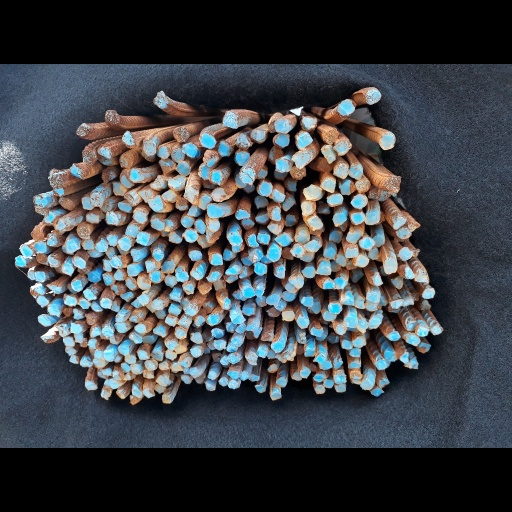dipstick: (335, 98, 357, 115), (291, 150, 310, 169), (363, 87, 382, 105), (222, 109, 239, 129), (118, 168, 135, 188), (368, 187, 392, 201), (158, 157, 176, 175), (378, 132, 395, 151), (384, 175, 401, 194), (204, 213, 221, 232), (295, 131, 313, 148), (204, 227, 222, 244), (167, 175, 186, 191), (303, 184, 322, 200), (239, 167, 255, 186), (65, 233, 81, 252), (92, 349, 108, 368), (321, 144, 336, 164), (300, 114, 317, 131), (124, 189, 141, 206), (71, 274, 88, 291), (320, 128, 338, 144), (172, 127, 190, 143), (48, 172, 66, 188), (203, 149, 219, 167), (315, 157, 333, 173), (210, 186, 228, 202), (256, 179, 272, 197), (153, 90, 168, 109), (334, 140, 353, 155), (272, 133, 291, 148), (58, 195, 77, 210), (319, 178, 338, 193), (274, 117, 290, 134), (101, 166, 117, 183), (275, 157, 292, 173), (306, 215, 323, 231), (250, 129, 268, 144), (184, 187, 199, 205), (332, 162, 347, 180), (358, 236, 376, 251), (138, 188, 156, 203), (76, 222, 91, 240), (200, 133, 216, 149), (355, 178, 371, 194), (300, 200, 316, 216), (397, 246, 413, 262), (53, 217, 69, 233), (42, 210, 58, 226), (236, 133, 253, 148), (181, 143, 198, 158), (104, 109, 119, 126), (89, 191, 104, 208), (268, 147, 283, 164), (293, 229, 310, 244), (413, 268, 430, 283), (148, 194, 163, 211), (181, 228, 198, 243), (144, 259, 161, 274), (246, 323, 263, 338), (218, 139, 232, 157), (110, 181, 128, 195), (349, 163, 363, 181), (350, 195, 368, 209), (274, 232, 292, 246), (137, 273, 151, 291), (29, 282, 47, 296), (99, 199, 118, 212), (119, 152, 134, 168), (82, 149, 98, 164), (69, 163, 85, 178), (150, 174, 165, 190), (390, 214, 406, 229), (346, 229, 362, 244), (399, 264, 415, 279), (267, 219, 283, 234), (265, 247, 281, 262), (124, 223, 140, 238), (29, 226, 45, 241), (116, 236, 132, 251), (247, 247, 263, 262), (59, 261, 74, 277), (170, 146, 184, 163), (122, 130, 136, 147), (367, 272, 384, 286), (304, 239, 321, 253), (241, 216, 258, 230), (206, 204, 223, 218), (197, 234, 214, 248), (114, 308, 131, 322), (176, 161, 191, 176), (32, 194, 47, 209), (365, 210, 380, 225), (271, 188, 286, 203), (267, 206, 282, 221), (382, 258, 397, 273), (45, 230, 60, 245), (76, 122, 90, 138), (235, 151, 251, 165), (290, 165, 306, 179), (327, 230, 343, 244), (390, 274, 404, 290), (254, 195, 270, 209), (227, 231, 243, 245), (133, 209, 149, 223), (160, 260, 176, 274), (175, 266, 189, 282), (47, 253, 63, 267), (238, 265, 254, 279), (327, 193, 344, 206), (288, 275, 305, 288), (104, 378, 126, 388), (154, 374, 172, 386), (371, 234, 386, 248), (283, 178, 298, 192), (282, 197, 296, 212), (254, 210, 269, 224), (245, 233, 259, 248), (198, 195, 212, 210), (150, 217, 165, 231), (135, 231, 150, 245), (252, 261, 267, 275), (19, 244, 34, 258), (245, 352, 260, 366), (169, 287, 183, 302), (200, 299, 215, 313), (47, 303, 62, 317), (156, 144, 169, 160), (209, 169, 222, 185), (290, 245, 306, 258), (162, 189, 178, 202), (84, 211, 100, 224), (109, 254, 125, 267), (125, 275, 138, 291), (403, 356, 419, 369), (177, 355, 193, 368), (103, 345, 116, 361), (37, 313, 53, 326), (319, 278, 336, 290), (95, 368, 113, 379), (406, 218, 420, 232), (335, 254, 349, 268), (323, 246, 337, 260), (317, 261, 331, 275), (104, 246, 118, 260), (87, 269, 101, 283), (296, 315, 310, 329), (406, 333, 420, 347), (84, 312, 98, 326), (143, 141, 156, 156), (97, 144, 112, 157), (350, 212, 365, 225), (316, 201, 331, 214), (332, 212, 347, 225), (257, 230, 270, 245), (104, 211, 119, 224), (222, 248, 237, 261), (198, 281, 213, 294), (328, 301, 343, 314), (178, 314, 193, 327), (130, 383, 143, 398), (168, 303, 183, 316), (153, 324, 168, 337), (78, 355, 93, 368), (63, 293, 78, 306), (34, 294, 49, 307), (395, 226, 411, 238), (353, 255, 369, 267), (127, 264, 143, 276), (231, 289, 247, 301), (128, 331, 144, 343), (82, 288, 98, 300), (116, 201, 133, 212), (77, 262, 94, 273), (45, 283, 62, 294), (281, 246, 294, 260), (273, 265, 286, 279), (187, 204, 201, 217), (168, 230, 181, 244), (95, 238, 108, 252), (14, 255, 28, 268), (72, 255, 86, 268), (343, 315, 357, 328), (430, 323, 444, 336), (416, 323, 429, 337), (383, 348, 397, 361), (275, 374, 288, 388), (189, 331, 203, 344), (164, 314, 178, 327), (33, 269, 46, 283), (301, 266, 316, 278), (86, 248, 104, 258), (149, 271, 164, 283), (403, 294, 415, 309), (365, 291, 380, 303), (281, 310, 296, 322), (326, 332, 341, 344), (212, 339, 227, 351), (229, 334, 244, 346), (235, 209, 251, 220), (188, 250, 204, 261), (135, 349, 151, 360), (113, 321, 129, 332), (225, 264, 242, 274), (41, 333, 58, 343), (175, 197, 188, 210), (180, 215, 193, 228), (351, 270, 364, 283), (164, 274, 177, 287), (334, 371, 347, 384), (228, 351, 241, 364), (129, 168, 141, 182), (51, 185, 65, 197), (285, 213, 297, 227), (368, 247, 380, 261), (421, 287, 435, 299), (193, 219, 205, 233), (106, 233, 118, 247), (152, 247, 164, 261), (181, 282, 195, 294), (340, 293, 354, 305), (255, 295, 269, 307), (356, 319, 368, 333), (270, 341, 284, 353), (183, 304, 197, 316), (144, 358, 158, 370), (150, 298, 164, 310), (134, 322, 148, 334), (117, 343, 131, 355), (84, 380, 98, 392), (77, 297, 91, 309), (300, 252, 315, 263), (206, 271, 221, 282), (265, 306, 280, 317), (231, 313, 246, 324), (296, 330, 307, 345), (274, 353, 289, 364), (225, 342, 240, 353), (128, 394, 143, 405), (129, 312, 144, 323), (222, 273, 238, 283), (345, 246, 358, 258), (255, 166, 268, 178), (163, 219, 175, 232), (81, 238, 94, 250), (210, 253, 222, 266), (333, 277, 346, 289), (34, 241, 47, 253), (102, 273, 115, 285), (241, 286, 254, 298), (418, 342, 431, 354), (348, 347, 361, 359), (283, 348, 295, 361), (174, 327, 187, 339), (58, 323, 71, 335), (72, 307, 85, 319), (99, 298, 112, 310), (129, 247, 140, 261), (190, 269, 204, 280), (389, 298, 403, 309), (322, 310, 336, 321), (300, 296, 314, 307), (266, 294, 280, 305), (352, 336, 366, 347), (399, 351, 410, 365), (309, 326, 323, 337), (268, 389, 282, 400), (247, 372, 261, 383), (237, 370, 251, 381), (206, 314, 220, 325), (189, 346, 203, 357), (164, 340, 178, 351), (164, 350, 178, 361), (130, 363, 144, 374), (62, 336, 76, 347), (376, 359, 391, 369), (359, 379, 374, 389), (369, 386, 384, 396), (260, 332, 275, 342), (241, 255, 253, 267), (114, 268, 126, 280), (353, 297, 365, 309), (349, 371, 365, 380), (266, 348, 278, 360), (193, 315, 205, 327), (201, 330, 213, 342), (158, 359, 170, 371), (137, 294, 149, 306), (102, 325, 114, 337), (70, 322, 82, 334), (109, 300, 121, 312), (310, 301, 321, 314), (406, 320, 417, 333), (335, 322, 346, 335), (332, 356, 343, 369), (313, 384, 326, 395), (318, 315, 331, 326), (220, 298, 231, 311), (228, 378, 241, 389), (211, 327, 224, 338), (225, 322, 238, 333), (234, 322, 247, 333), (151, 350, 164, 361), (142, 368, 155, 379), (142, 334, 155, 345), (89, 300, 102, 311), (387, 330, 401, 340), (340, 339, 354, 349), (226, 370, 240, 380), (170, 361, 184, 371), (153, 383, 167, 393), (154, 309, 168, 319), (110, 333, 124, 343), (317, 361, 332, 370), (241, 306, 256, 315), (283, 290, 295, 301), (368, 317, 379, 329), (377, 378, 389, 389), (420, 300, 432, 311), (204, 380, 216, 391), (219, 354, 231, 365), (188, 367, 200, 378), (143, 388, 155, 399), (115, 388, 127, 399), (89, 325, 100, 337), (26, 268, 37, 280), (213, 280, 226, 290), (334, 383, 347, 393), (231, 244, 245, 253), (379, 294, 388, 308), (180, 374, 191, 385), (34, 207, 49, 215), (261, 255, 276, 263), (252, 286, 264, 296), (313, 353, 325, 363), (206, 340, 218, 350), (211, 352, 223, 362), (87, 338, 99, 348), (68, 354, 80, 364), (313, 373, 326, 382), (64, 346, 78, 354), (323, 379, 334, 389), (300, 366, 310, 377), (292, 370, 302, 381), (257, 347, 267, 358), (100, 389, 110, 400), (411, 290, 420, 302), (124, 355, 136, 364), (112, 370, 124, 379), (72, 333, 84, 342), (121, 363, 131, 373), (304, 348, 315, 357), (267, 362, 276, 373), (219, 375, 228, 386), (207, 370, 218, 379), (161, 394, 172, 403), (349, 362, 361, 370), (254, 384, 263, 393), (180, 297, 189, 306), (123, 372, 132, 381), (114, 353, 123, 362), (296, 344, 304, 354), (351, 378, 362, 384)
